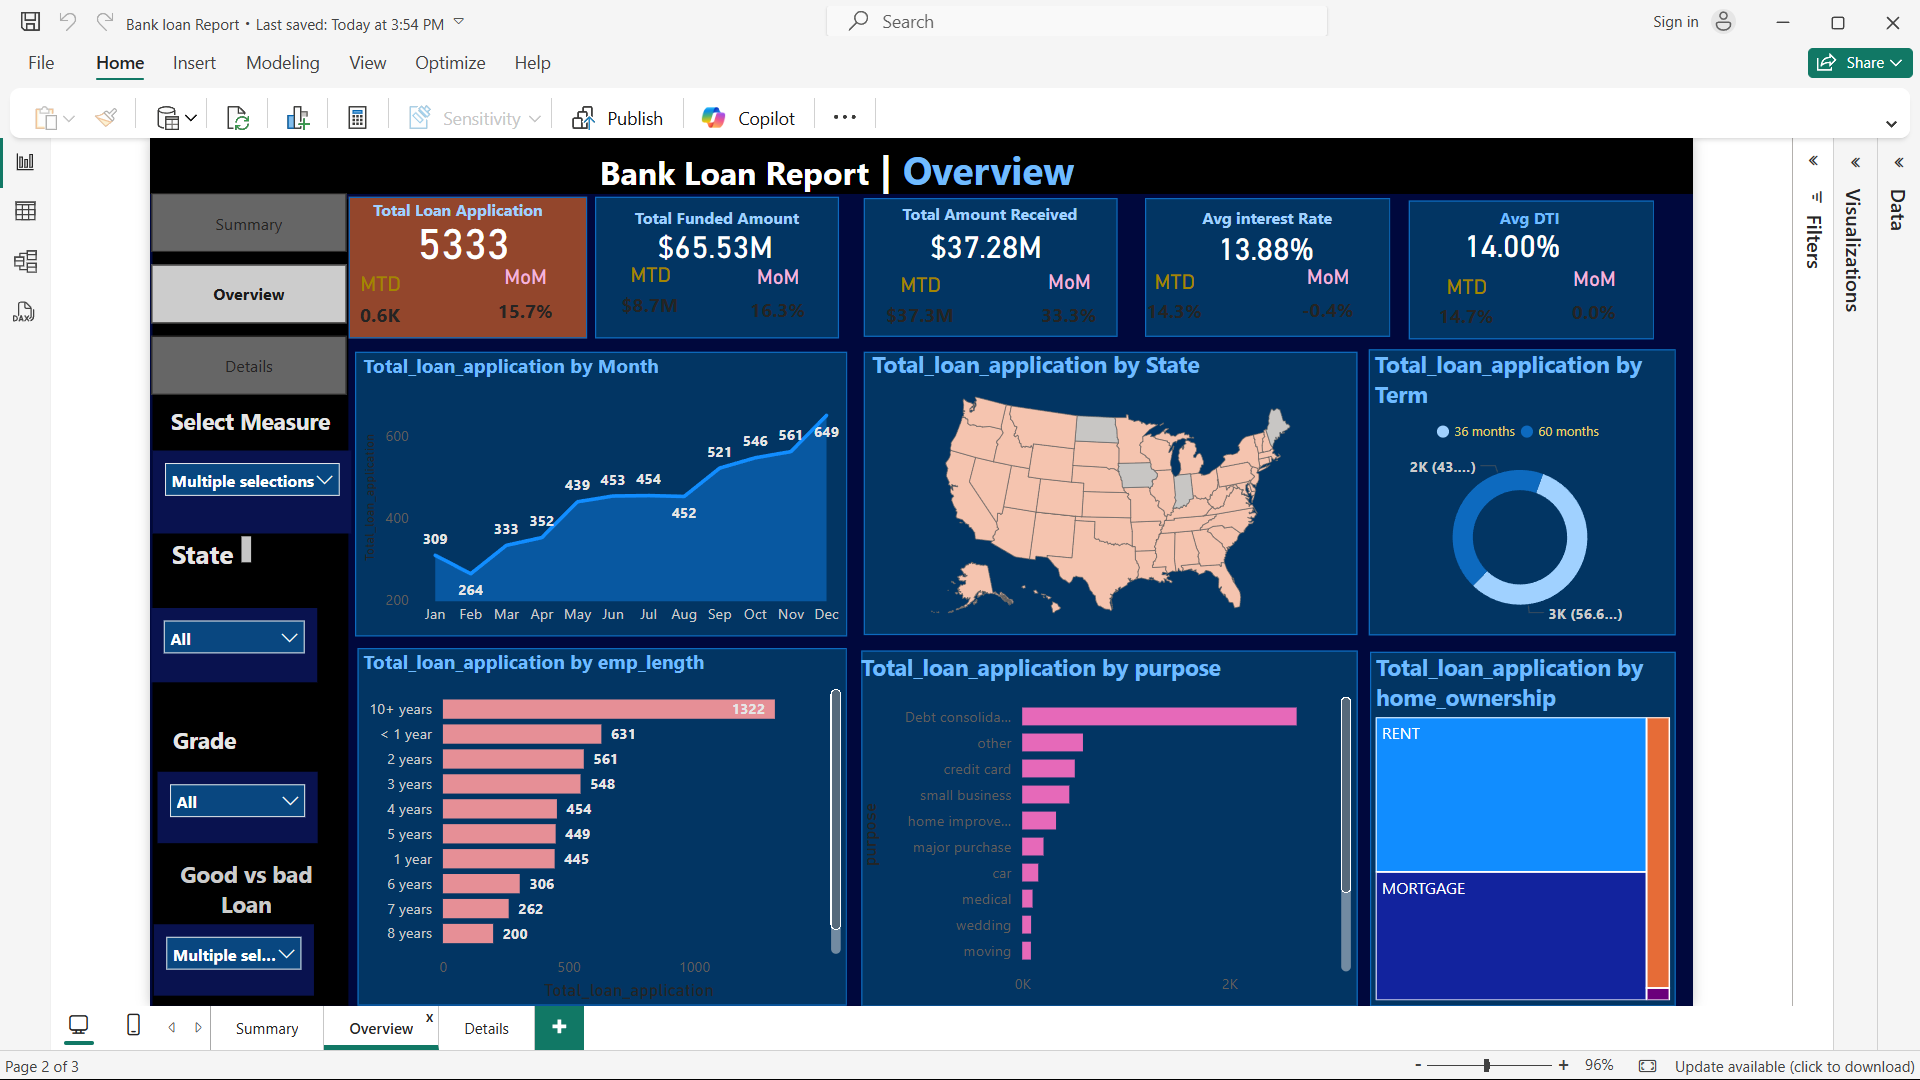

What the dashboard file says about the page in this screenshot:
{"tool":"powerbi","page":{"name":"Overview","canvas":[1280,720],"ordinal":1},"visuals":[{"type":"shape","box":[0,0,1280,46.7],"z":0},{"type":"shape","box":[2.3,51.2,162.8,668.6],"z":1000},{"type":"textbox","box":[368.3,0,543.3,68.3],"z":2000},{"type":"shape","box":[165.1,48.8,197.7,117.4],"z":3000},{"type":"card","fields":{"Values":["financial_loan.Total_loan_application"]},"box":[201.2,61.6,117.4,47.7],"z":4000},{"type":"textbox","box":[137.2,45.3,237.2,47.7],"z":5000},{"type":"card","title":"MTD","fields":{"Values":["financial_loan.MTD Loan Applicaton"]},"box":[137.2,110.5,108.1,55.8],"z":6000},{"type":"card","title":"MoM","fields":{"Values":["financial_loan.MoM Loan application"]},"box":[438,103,103,54],"z":7000},{"type":"shape","box":[368.6,48.8,202.3,117.4],"z":8000},{"type":"textbox","box":[369.8,52.3,200,31.4],"z":9000},{"type":"card","fields":{"Values":["financial_loan.Total Funded Amount"]},"box":[380.2,66.3,176.7,46.5],"z":10000},{"type":"card","title":"MTD","fields":{"Values":["financial_loan.MTD funded Amoutn"]},"box":[360.5,103.5,108.1,54.7],"z":11000},{"type":"card","title":"MoM","fields":{"Values":["financial_loan.MoM Loan application"]},"box":[260.5,104.7,102.3,61.6],"z":12000},{"type":"card","title":"MoM","fields":{"Values":["financial_loan.Mom Total Funded Amount"]},"box":[469.8,104.7,102.3,60.5],"z":13000},{"type":"shape","box":[591.9,50,210.5,115.1],"z":14000},{"type":"card","fields":{"Values":["financial_loan.Total Amount Received"]},"box":[604.7,66.3,177.9,46.5],"z":15000},{"type":"card","title":"MTD","fields":{"Values":["financial_loan.Total Amount Received"]},"box":[584.9,111.6,108.1,54.7],"z":16000},{"type":"card","title":"MoM","fields":{"Values":["financial_loan.MoM Total Amount Recieved"]},"box":[710.5,109.3,102.3,60.5],"z":17000},{"type":"shape","box":[824.4,50,203.5,115.1],"z":18000},{"type":"card","fields":{"Values":["financial_loan.Avg Interest Rate"]},"box":[836,68.6,177.9,46.5],"z":19000},{"type":"card","title":"MTD","fields":{"Values":["financial_loan.MTD avg Int Rate"]},"box":[786,109.3,125.6,54.7],"z":20000},{"type":"card","title":"MoM","fields":{"Values":["financial_loan.MoM Avg Int Rate"]},"box":[925.6,104.7,102.3,60.5],"z":21000},{"type":"textbox","box":[595.4,48.8,204.7,34.9],"z":22000},{"type":"textbox","box":[827.9,52.3,200,32.6],"z":23000},{"type":"shape","box":[1043,52.3,203.5,115.1],"z":24000},{"type":"textbox","box":[1041.9,52.3,204.7,34.9],"z":25000},{"type":"card","fields":{"Values":["financial_loan.Avg DTI"]},"box":[1040.7,65.1,177.9,46.5],"z":26000},{"type":"card","title":"MTD","fields":{"Values":["financial_loan.MTD Avg Dti"]},"box":[1037.2,112.8,108.1,54.7],"z":27000},{"type":"card","title":"MoM","fields":{"Values":["financial_loan.MoM Avg DTI"]},"box":[1146.5,107,102.3,60.5],"z":28000},{"type":"slicer","fields":{"Values":["financial_loan.address_state"]},"box":[1.2,389.5,137.2,61.6],"z":29000},{"type":"textbox","box":[5.8,325.6,82.6,34.9],"z":30000},{"type":"slicer","fields":{"Values":["financial_loan.grade"]},"box":[5.8,525.6,132.6,59.3],"z":31000},{"type":"textbox","box":[5.8,481.4,77.9,34.9],"z":32000},{"type":"slicer","fields":{"Values":["financial_loan.Good v Bad Loan"]},"box":[3.5,652.3,132.6,59.3],"z":33000},{"type":"textbox","box":[4.7,593,151.2,59.3],"z":34000},{"type":"shape","box":[589.5,424.4,411.6,295.3],"z":35000},{"type":"slicer","fields":{"Values":["Select Measure.Select Measure"]},"box":[2.3,259.3,165.1,68.6],"z":36000},{"type":"textbox","box":[3.5,217.4,160.5,41.9],"z":37000},{"type":"shape","box":[591.9,176.7,409.3,234.9],"z":38000},{"type":"shapeMap","fields":{"Value":["financial_loan.Total_loan_application"],"Category":["financial_loan.address_state"]},"box":[594.2,175.6,405.8,233.7],"z":39000},{"type":"shape","box":[1010.5,175.6,254.7,237.2],"z":40000},{"type":"donutChart","fields":{"Y":["financial_loan.Total_loan_application"],"Category":["financial_loan.term"]},"box":[1010.5,175.6,251.2,234.9],"z":41000},{"type":"shape","box":[169.8,176.7,408.1,236],"z":42000},{"type":"areaChart","fields":{"Y":["financial_loan.Total_loan_application"],"Category":["Date Table.Month"]},"box":[172.1,176.7,405.8,236],"z":43000},{"type":"shape","box":[172.1,423.3,405.8,296.5],"z":44000},{"type":"barChart","fields":{"Y":["financial_loan.Total_loan_application"],"Category":["financial_loan.emp_length"]},"box":[172.1,423.3,405.8,296.5],"z":45000},{"type":"barChart","fields":{"Y":["financial_loan.Total_loan_application"],"Category":["financial_loan.purpose"]},"box":[584.9,425.6,416.3,294.2],"z":46000},{"type":"shape","box":[1011.6,425.6,253.5,294.2],"z":47000},{"type":"treemap","fields":{"Values":["financial_loan.Total_loan_application"],"Group":["financial_loan.home_ownership"]},"box":[1011.6,425.6,253.5,294.2],"z":48000},{"type":"pageNavigator","box":[1.2,45.3,162.8,168.6],"z":49000}]}

Visuals, with their boxes on the page's 1280x720 design canvas (x1, y1, x2, y2). These are canvas units, not pixel positions in the 1920x1080 screenshot, which may show the page scaled, cropped or inside an application window:
shape: bbox=[0, 0, 1280, 47]
shape: bbox=[2, 51, 165, 720]
textbox: bbox=[368, 0, 912, 68]
shape: bbox=[165, 49, 363, 166]
card - financial_loan.Total_loan_application: bbox=[201, 62, 319, 109]
textbox: bbox=[137, 45, 374, 93]
"MTD" card: bbox=[137, 110, 245, 166]
"MoM" card: bbox=[438, 103, 541, 157]
shape: bbox=[369, 49, 571, 166]
textbox: bbox=[370, 52, 570, 84]
card - financial_loan.Total Funded Amount: bbox=[380, 66, 557, 113]
"MTD" card: bbox=[360, 104, 469, 158]
"MoM" card: bbox=[260, 105, 363, 166]
"MoM" card: bbox=[470, 105, 572, 165]
shape: bbox=[592, 50, 802, 165]
card - financial_loan.Total Amount Received: bbox=[605, 66, 783, 113]
"MTD" card: bbox=[585, 112, 693, 166]
"MoM" card: bbox=[710, 109, 813, 170]
shape: bbox=[824, 50, 1028, 165]
card - financial_loan.Avg Interest Rate: bbox=[836, 69, 1014, 115]
"MTD" card: bbox=[786, 109, 912, 164]
"MoM" card: bbox=[926, 105, 1028, 165]
textbox: bbox=[595, 49, 800, 84]
textbox: bbox=[828, 52, 1028, 85]
shape: bbox=[1043, 52, 1246, 167]
textbox: bbox=[1042, 52, 1247, 87]
card - financial_loan.Avg DTI: bbox=[1041, 65, 1219, 112]
"MTD" card: bbox=[1037, 113, 1145, 168]
"MoM" card: bbox=[1146, 107, 1249, 168]
slicer - financial_loan.address_state: bbox=[1, 390, 138, 451]
textbox: bbox=[6, 326, 88, 360]
slicer - financial_loan.grade: bbox=[6, 526, 138, 585]
textbox: bbox=[6, 481, 84, 516]
slicer - financial_loan.Good v Bad Loan: bbox=[4, 652, 136, 712]
textbox: bbox=[5, 593, 156, 652]
shape: bbox=[590, 424, 1001, 720]
slicer - Select Measure.Select Measure: bbox=[2, 259, 167, 328]
textbox: bbox=[4, 217, 164, 259]
shape: bbox=[592, 177, 1001, 412]
shapeMap - financial_loan.Total_loan_application x financial_loan.address_state: bbox=[594, 176, 1000, 409]
shape: bbox=[1010, 176, 1265, 413]
donutChart - financial_loan.Total_loan_application x financial_loan.term: bbox=[1010, 176, 1262, 410]
shape: bbox=[170, 177, 578, 413]
areaChart - financial_loan.Total_loan_application x Date Table.Month: bbox=[172, 177, 578, 413]
shape: bbox=[172, 423, 578, 720]
barChart - financial_loan.Total_loan_application x financial_loan.emp_length: bbox=[172, 423, 578, 720]
barChart - financial_loan.Total_loan_application x financial_loan.purpose: bbox=[585, 426, 1001, 720]
shape: bbox=[1012, 426, 1265, 720]
treemap - financial_loan.Total_loan_application x financial_loan.home_ownership: bbox=[1012, 426, 1265, 720]
pageNavigator: bbox=[1, 45, 164, 214]
